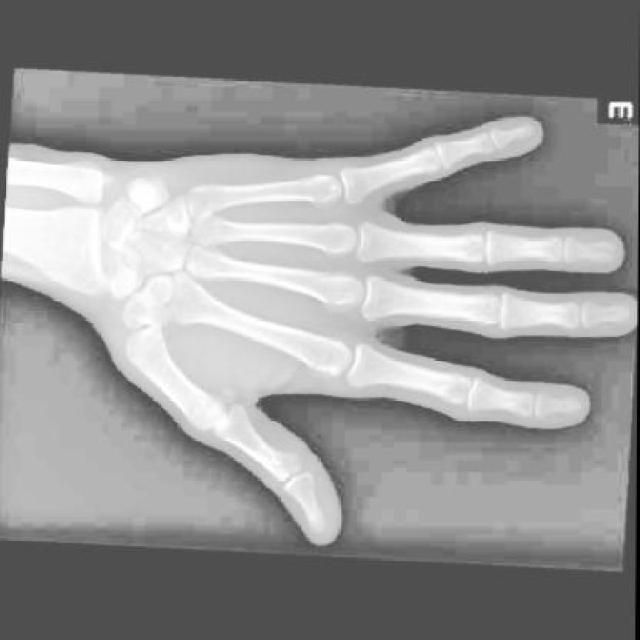Fracture: (583, 237, 617, 262)
